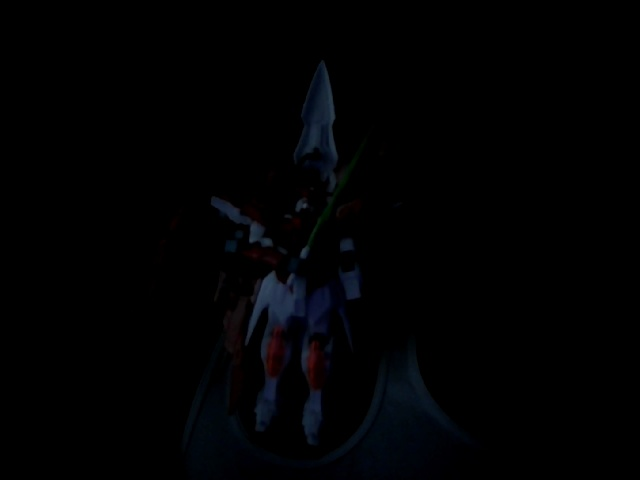Honoo: (201, 58, 380, 455)
